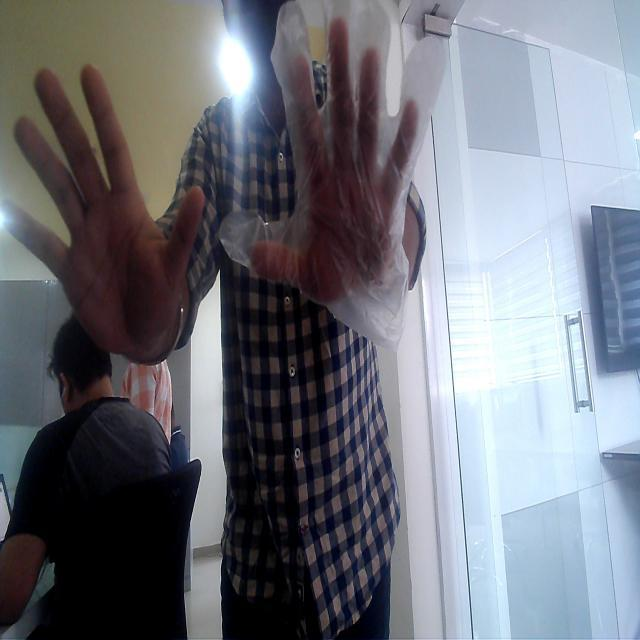with_gloves: (316, 0, 349, 356)
without_gloves: (0, 73, 220, 379)
